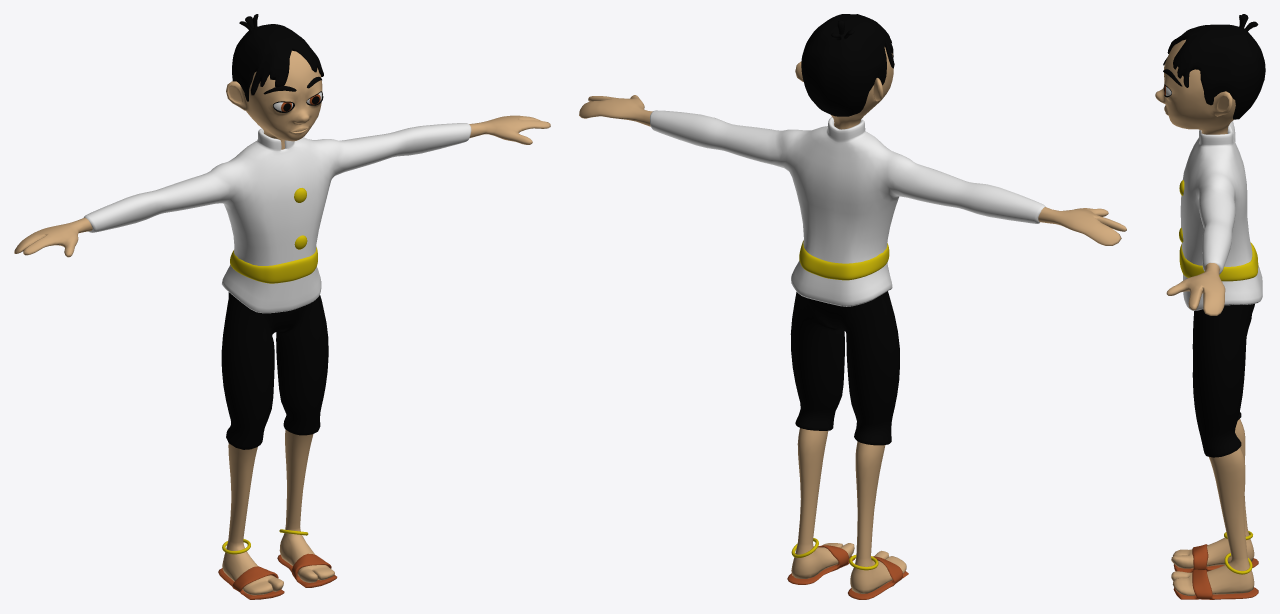
File: YoungerBrother_Smooth_SpencerBarber.fbx
3 renders of one model, left to right at view 1: azimuth 30°, elevation 25°; view 2: azimuth 150°, elevation 25°; view 3: azimuth 270°, elevation 25°, orthographic. The views are drawn at different scales.
Visible parts, largest first — view 1: polySurface2; view 2: polySurface2; view 3: polySurface2.
Boxes of the visible parts, box(x1,y1,x2,y2) form: polySurface2: box(14, 14, 550, 599); polySurface2: box(579, 14, 1126, 599); polySurface2: box(1155, 14, 1265, 599).
Size of the model in its own units: 11.62 by 11.68 by 2.08.
